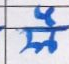ai_matra: (34, 6, 59, 26)
